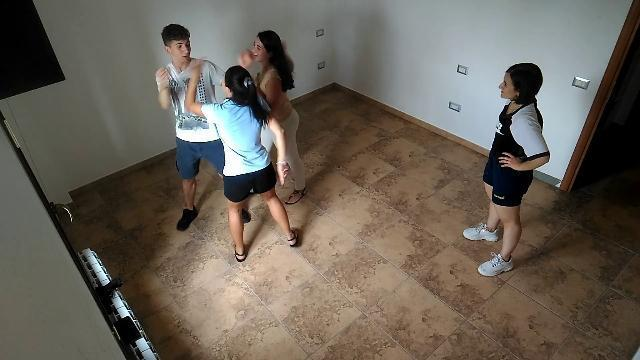non-violence: (461, 61, 552, 279)
violence: (152, 24, 300, 264)
